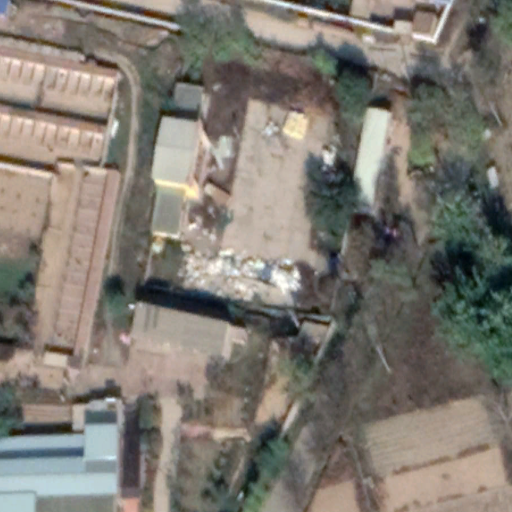msw: (183, 248, 301, 303)
